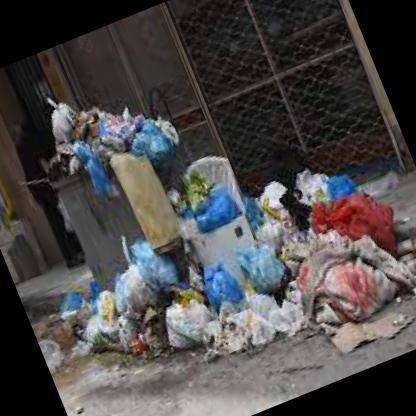Garbage: (21, 57, 182, 182), (27, 66, 176, 191), (151, 243, 287, 370), (242, 182, 350, 328), (52, 248, 176, 371), (295, 177, 402, 310), (54, 165, 152, 289), (178, 172, 242, 233)
